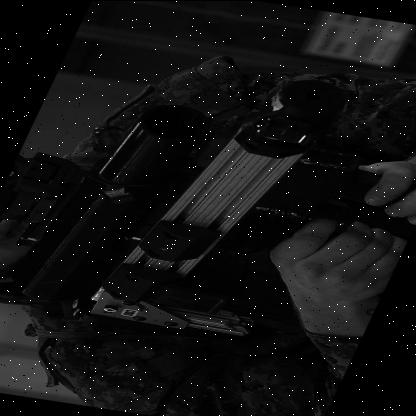rifle: (0, 50, 393, 357)
